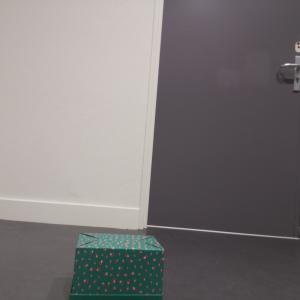small: (66, 231, 166, 300)
